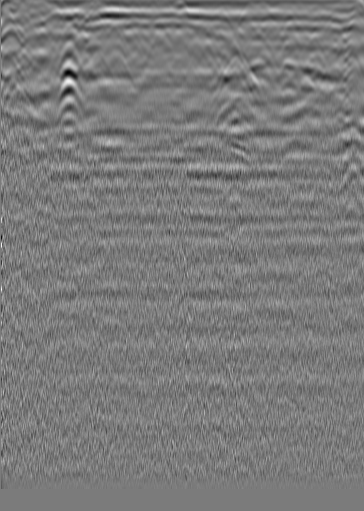가스: (213, 94, 256, 130)
상수: (301, 24, 321, 44)
오수: (27, 19, 47, 39)
우수: (152, 30, 172, 50)
